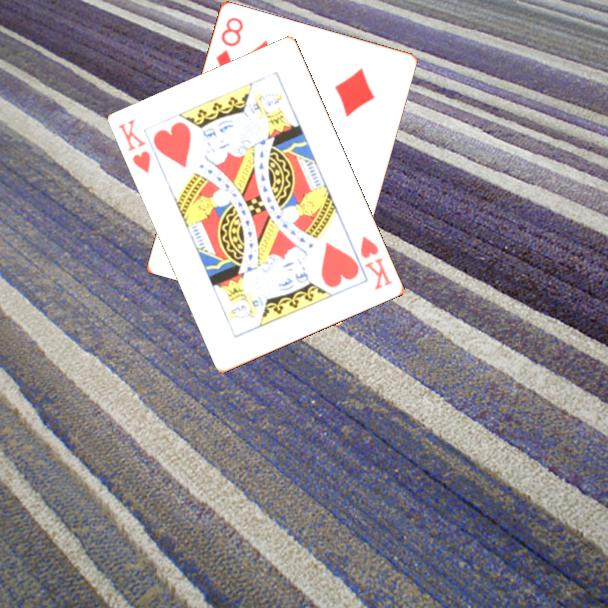d08: (212, 13, 246, 72)
h13: (357, 232, 396, 293), (115, 116, 154, 176)
